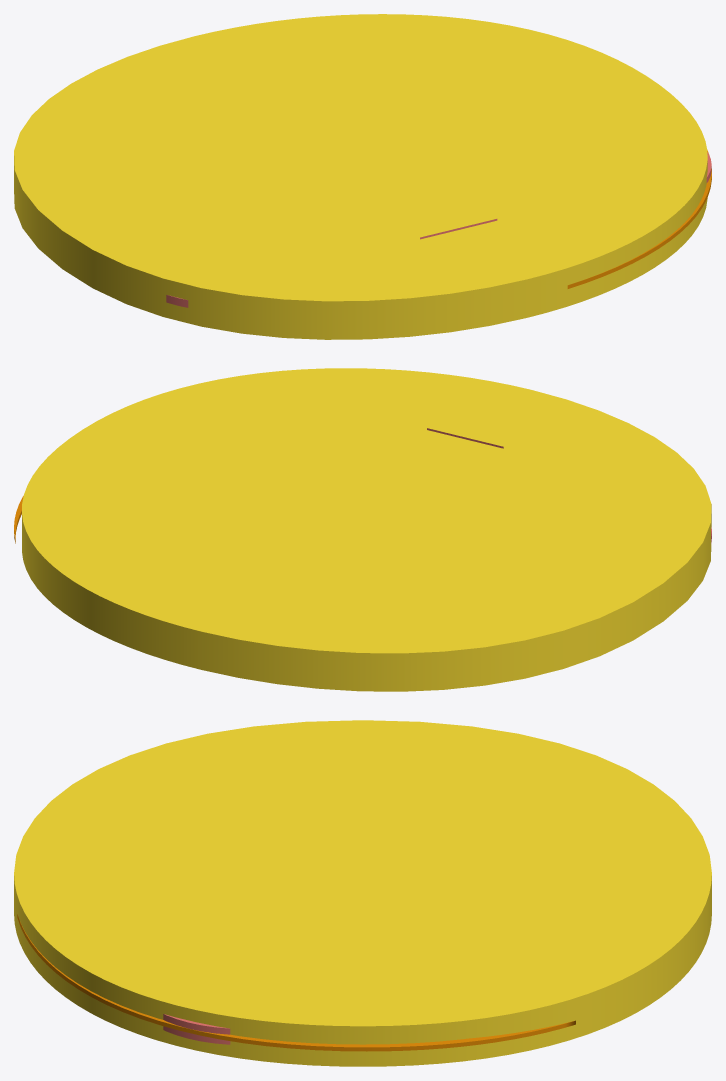
The model's file is emoji_u1f633.glb.
3 renders of one model, top to bottom at view 1: azimuth 30°, elevation 25°; view 2: azimuth 150°, elevation 25°; view 3: azimuth 270°, elevation 25°, orthographic. The views are drawn at different scales.
Parts seen in each view (by area): view 1: emoji_u1f633; view 2: emoji_u1f633; view 3: emoji_u1f633.
Boxes of the visible parts, <box> form: emoji_u1f633: <box>14,14,711,339</box>; emoji_u1f633: <box>14,368,711,691</box>; emoji_u1f633: <box>14,720,711,1066</box>.
Size of the model in its own units: 0.0328 by 0.0022 by 0.0313.
